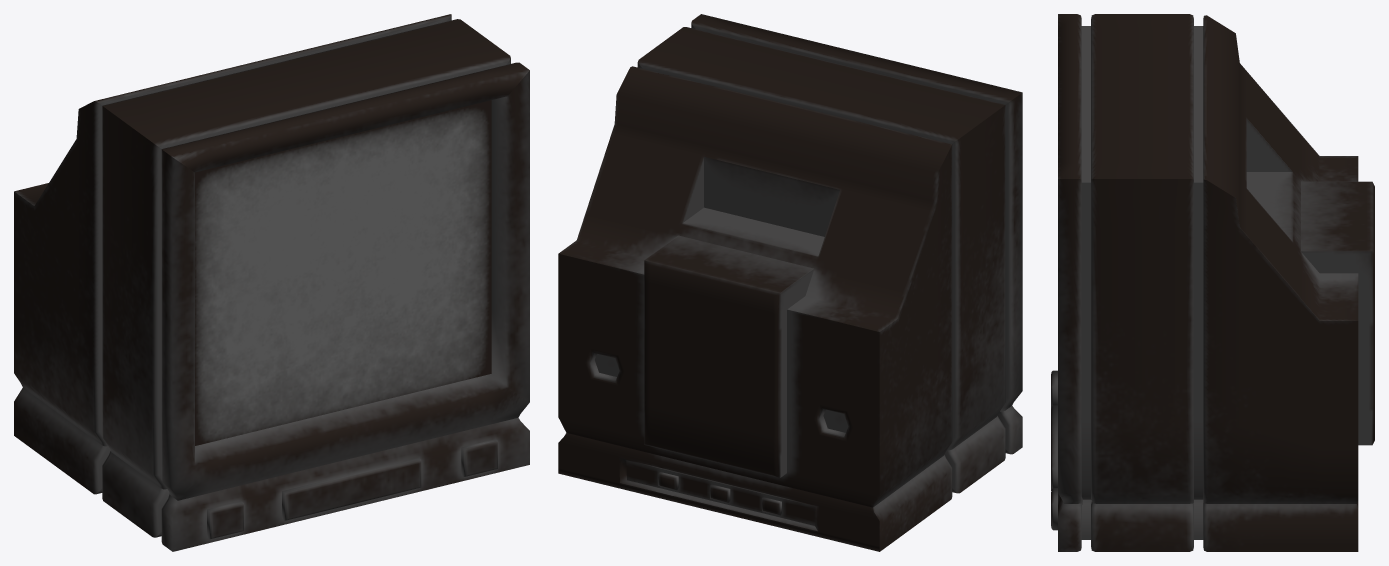
3 renders of one model, left to right at view 1: azimuth 30°, elevation 25°; view 2: azimuth 150°, elevation 25°; view 3: azimuth 270°, elevation 25°, orthographic. The views are drawn at different scales.
Visible parts, largest first — view 1: tv; view 2: tv; view 3: tv.
Boxes of the visible parts, left/top/right/bottom form: tv: left=14, top=14, right=529, bottom=551; tv: left=558, top=14, right=1022, bottom=551; tv: left=1051, top=14, right=1374, bottom=551.
Bounding box in the file's own units: 66.97 × 70.69 × 55.58.
